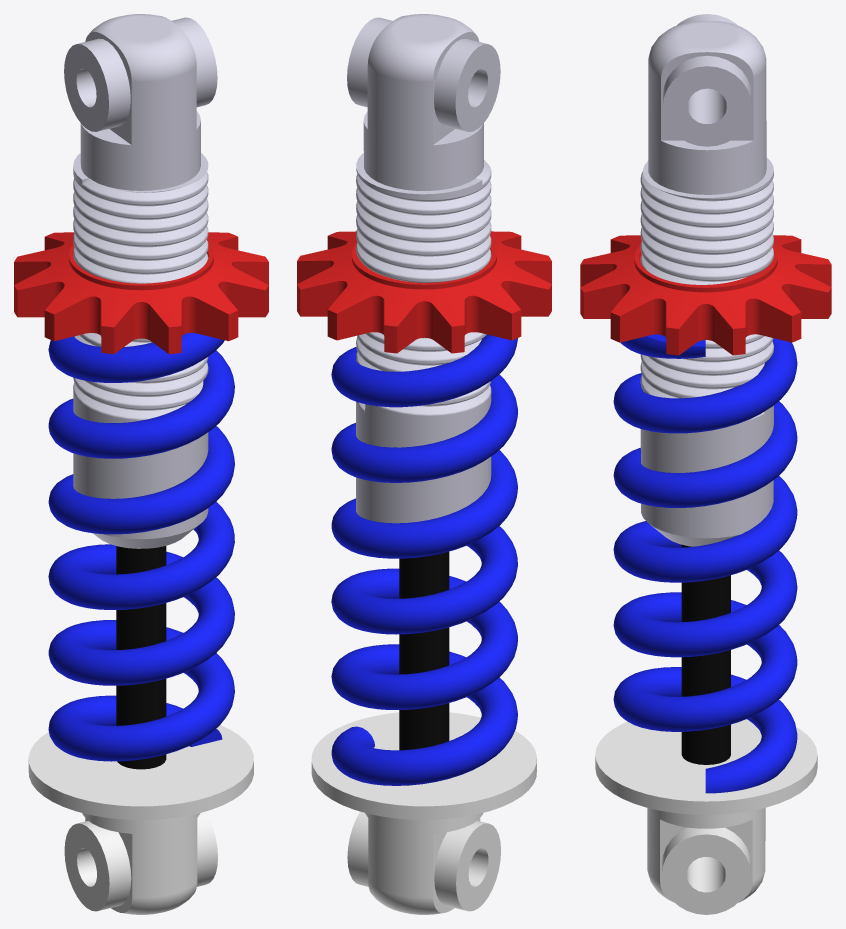
The model's file is Suspention.glb.
3 views of the same model, side by side, from view 1: azimuth 30°, elevation 25°; view 2: azimuth 150°, elevation 25°; view 3: azimuth 270°, elevation 25° (orthographic).
Visible parts, largest first — view 1: Solid1.004, Solid1.003, Solid1, Solid1.002; view 2: Solid1.004, Solid1.003, Solid1, Solid1.002; view 3: Solid1.004, Solid1.003, Solid1, Solid1.002.
Boxes of the visible parts, x1,y1,x2,y2 form: Solid1.004: [48, 333, 234, 761]; Solid1.003: [64, 14, 217, 548]; Solid1: [28, 546, 253, 914]; Solid1.002: [14, 232, 268, 354]; Solid1.004: [331, 334, 517, 785]; Solid1.003: [347, 14, 500, 523]; Solid1: [311, 551, 536, 914]; Solid1.002: [297, 231, 551, 353]; Solid1.004: [613, 334, 797, 793]; Solid1.003: [640, 14, 773, 546]; Solid1: [595, 544, 817, 914]; Solid1.002: [580, 235, 831, 355].
Bounding box in the file's own units: 0.0508 × 0.1916 × 0.0508.
